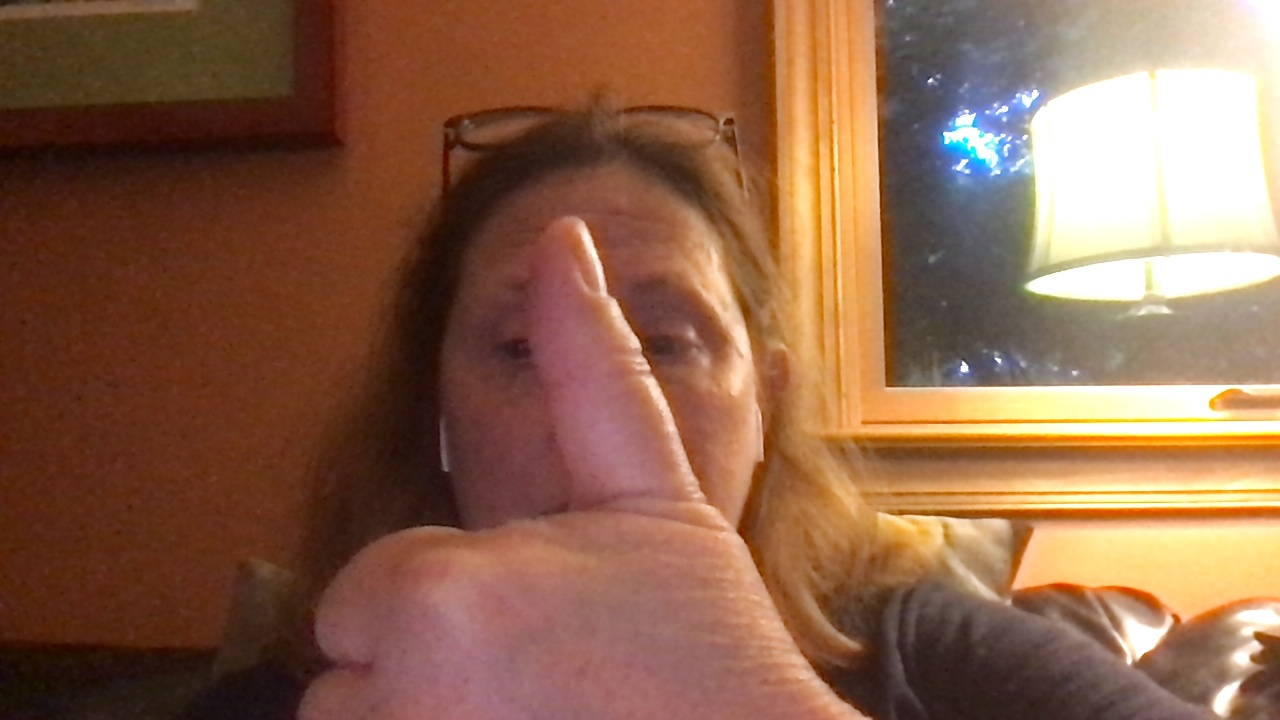thumbsup: (295, 209, 846, 720)
